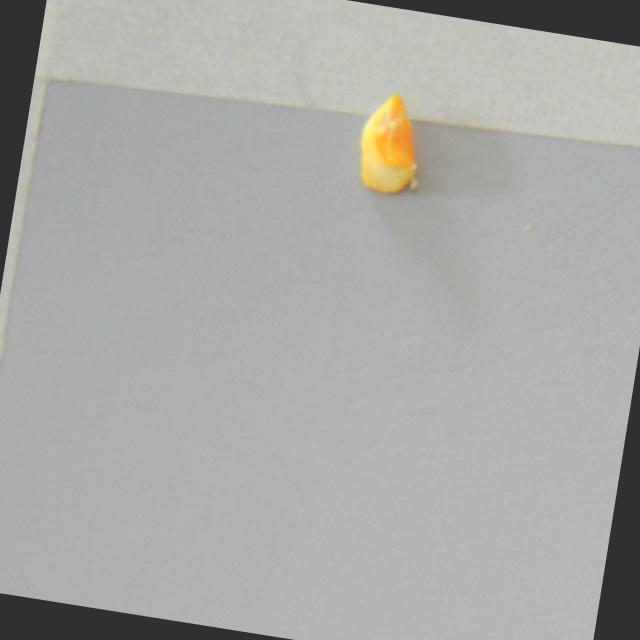pelicula: (351, 88, 432, 200)
